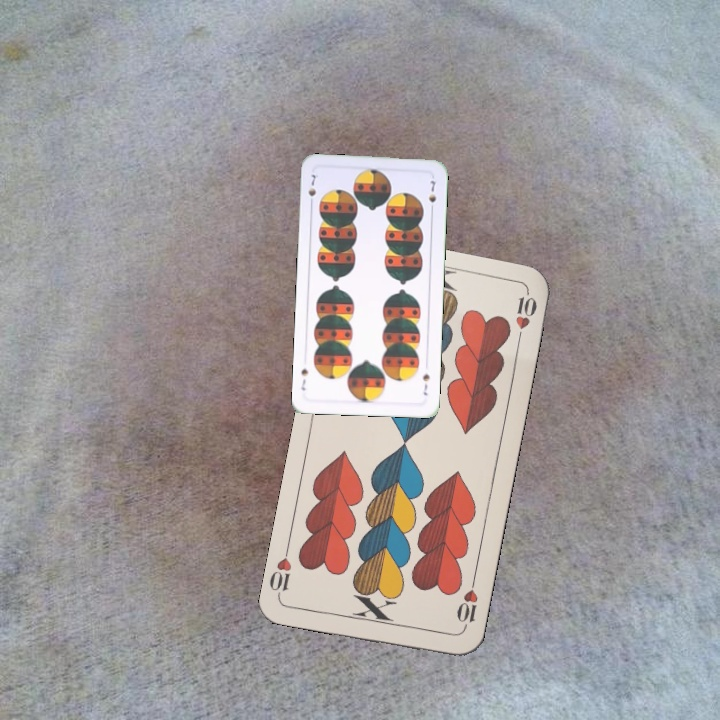H10: (452, 575, 481, 633)
S7: (304, 170, 319, 209), (419, 370, 432, 398)
